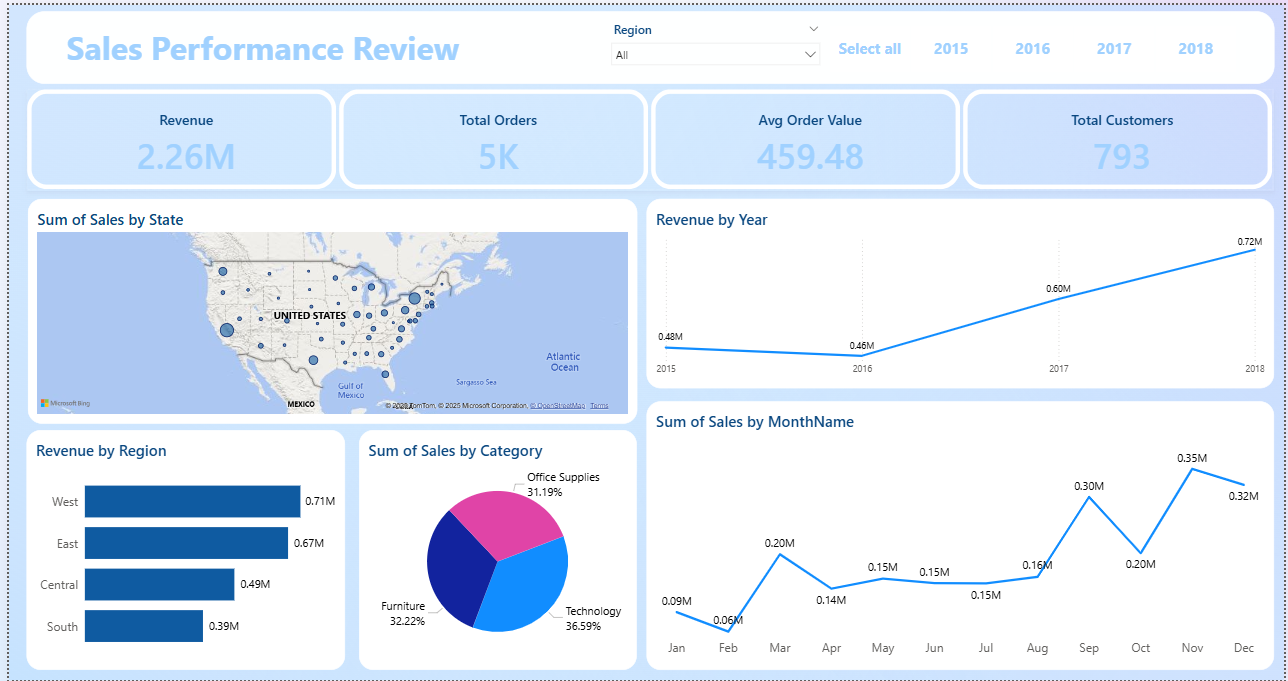

The page's visual inventory and layout, read from the dashboard file:
{"tool":"powerbi","page":{"name":"Sales performace","canvas":[1700,900],"ordinal":0},"visuals":[{"type":"cardVisual","fields":{"Data":["train.Revenue","train.Total Orders","train.Avg Order Value","train.Total Customers"]},"box":[22.9,111.4,1664.3,135.7],"z":0},{"type":"pieChart","fields":{"Category":["train.Category"],"Y":["Sum(train.Sales)"]},"box":[467.1,567.1,370,320],"z":1000},{"type":"lineChart","fields":{"Category":["train.MonthName"],"Y":["Sum(train.Sales)"]},"box":[850,528.6,837.1,358.6],"z":2000},{"type":"lineChart","fields":{"Category":["train.OrderedDate.Variation.Date Hierarchy.Year"],"Y":["train.Revenue"]},"box":[850,258.6,837.1,252.9],"z":3000},{"type":"barChart","fields":{"Category":["train.Region"],"Y":["train.Revenue"]},"box":[23.3,566.7,425,320],"z":4000},{"type":"textbox","box":[22.9,8.6,1664.3,97.1],"z":5000},{"type":"slicer","fields":{"Values":["train.OrderedDate.Variation.Date Hierarchy.Year"]},"box":[1072.9,25.7,581.4,65.7],"z":6000},{"type":"slicer","fields":{"Values":["train.Region"]},"box":[798.6,21.4,288.6,70],"z":7000},{"type":"map","fields":{"Category":["train.State"],"Size":["Sum(train.Sales)"]},"box":[24.3,258.6,812.9,300],"z":8000}]}

Visuals, with their boxes in screenshot pixels (x1, y1, x2, y2), scaled from the page's 1700x900 canvas onto the 1288x681 screenshot:
cardVisual - train.Revenue x train.Total Orders: box(17, 84, 1278, 187)
pieChart - train.Category x Sum(train.Sales): box(354, 429, 634, 671)
lineChart - train.MonthName x Sum(train.Sales): box(644, 400, 1278, 671)
lineChart - train.OrderedDate.Variation.Date Hierarchy.Year x train.Revenue: box(644, 196, 1278, 387)
barChart - train.Region x train.Revenue: box(18, 429, 340, 671)
textbox: box(17, 7, 1278, 80)
slicer - train.OrderedDate.Variation.Date Hierarchy.Year: box(813, 19, 1253, 69)
slicer - train.Region: box(605, 16, 824, 69)
map - train.State x Sum(train.Sales): box(18, 196, 634, 423)
